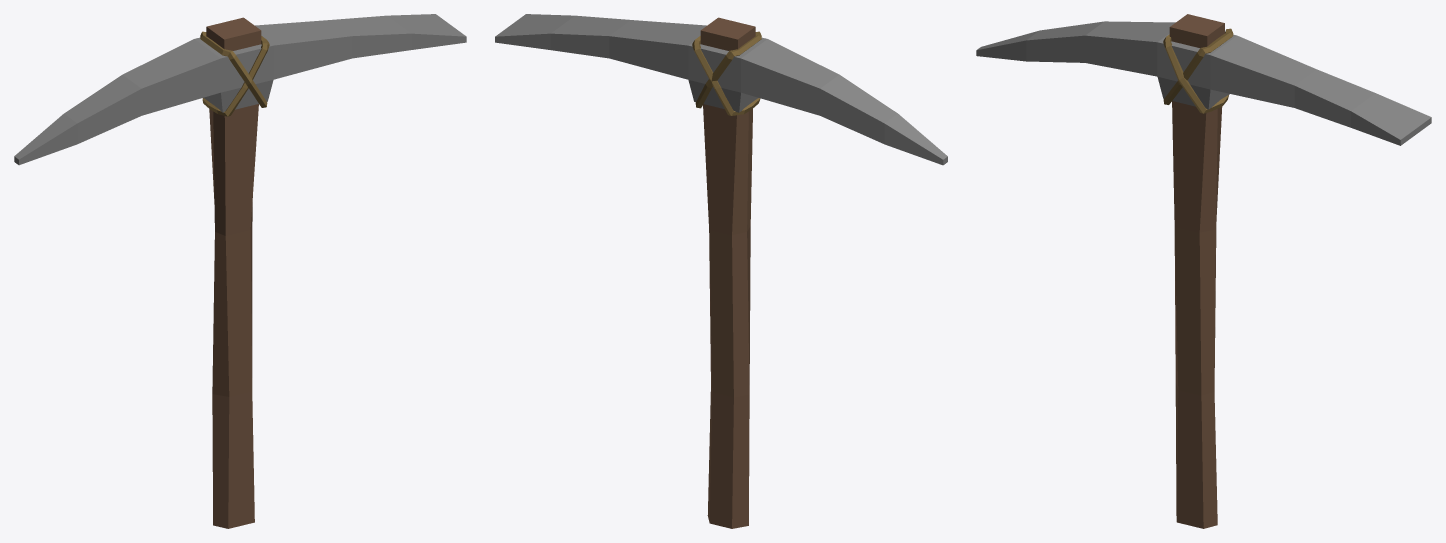
Rendered from pickaxe.glb.
3 views of the same model, side by side, from view 1: azimuth 30°, elevation 25°; view 2: azimuth 150°, elevation 25°; view 3: azimuth 330°, elevation 25° (orthographic).
Parts seen in each view (by area): view 1: pickaxe.001; view 2: pickaxe.001; view 3: pickaxe.001.
Boxes of the visible parts, bbox=[...] form: pickaxe.001: bbox=[14, 14, 466, 528]; pickaxe.001: bbox=[495, 14, 947, 528]; pickaxe.001: bbox=[976, 14, 1431, 528].
Size of the model in its own units: 59.7 by 64.55 by 7.86.
